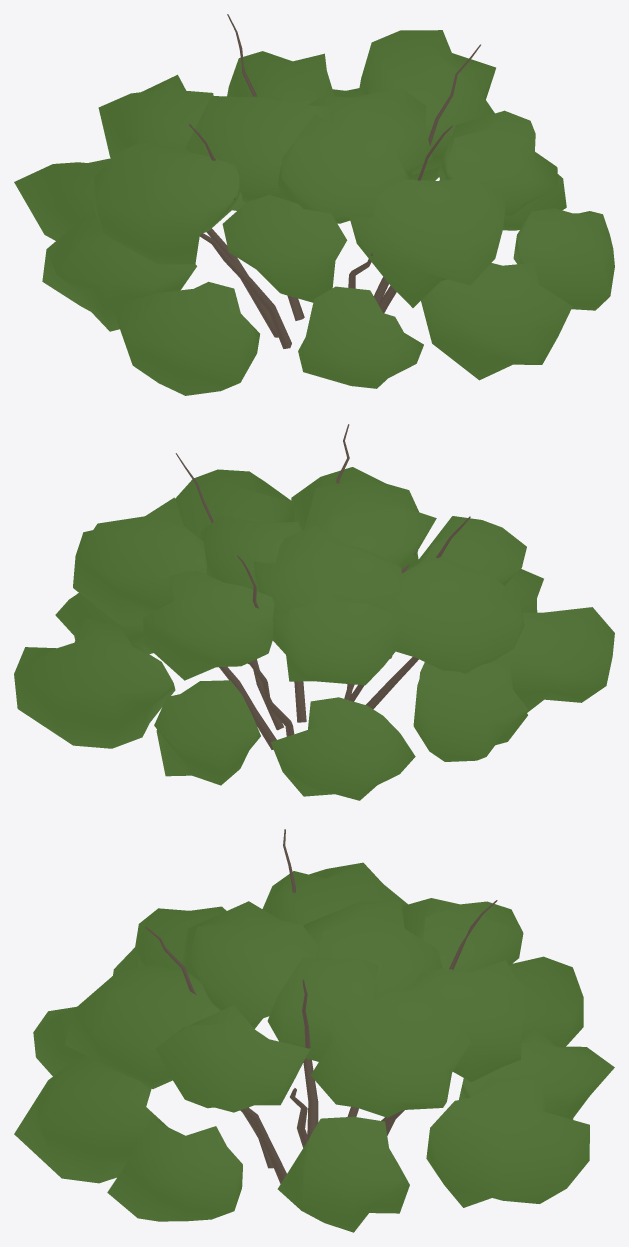
File: Blender_ScrubOak_1.glb
3 renders of one model, top to bottom at view 1: azimuth 30°, elevation 25°; view 2: azimuth 150°, elevation 25°; view 3: azimuth 270°, elevation 25°, orthographic. The views are drawn at different scales.
Parts seen in each view (by area): view 1: Blender_ScrubOak_1; view 2: Blender_ScrubOak_1; view 3: Blender_ScrubOak_1.
Part boxes in pixels (left/top/right/bottom): Blender_ScrubOak_1: left=14, top=14, right=614, bottom=395; Blender_ScrubOak_1: left=14, top=424, right=614, bottom=800; Blender_ScrubOak_1: left=14, top=829, right=614, bottom=1232.
Bounding box in the file's own units: 2.74 × 1.39 × 2.81.
